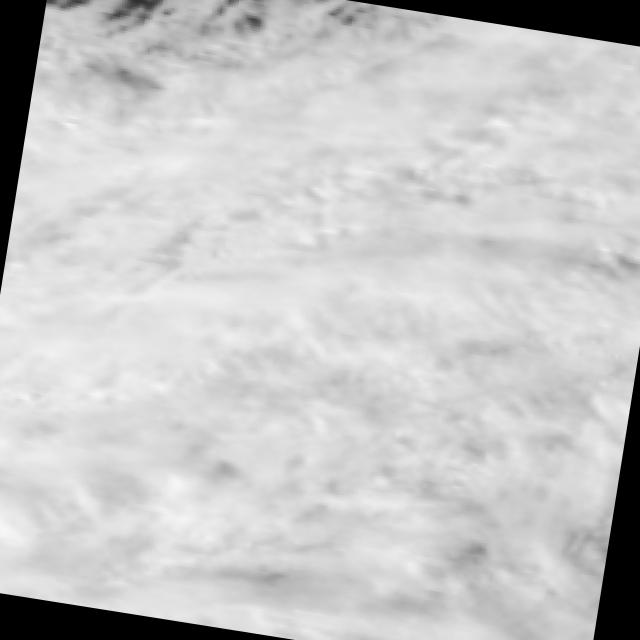CB: (192, 200, 444, 452), (0, 164, 239, 411), (165, 406, 414, 640), (238, 0, 475, 241), (408, 236, 640, 475), (438, 26, 640, 280), (0, 369, 203, 620), (20, 4, 267, 204), (378, 440, 619, 640)
